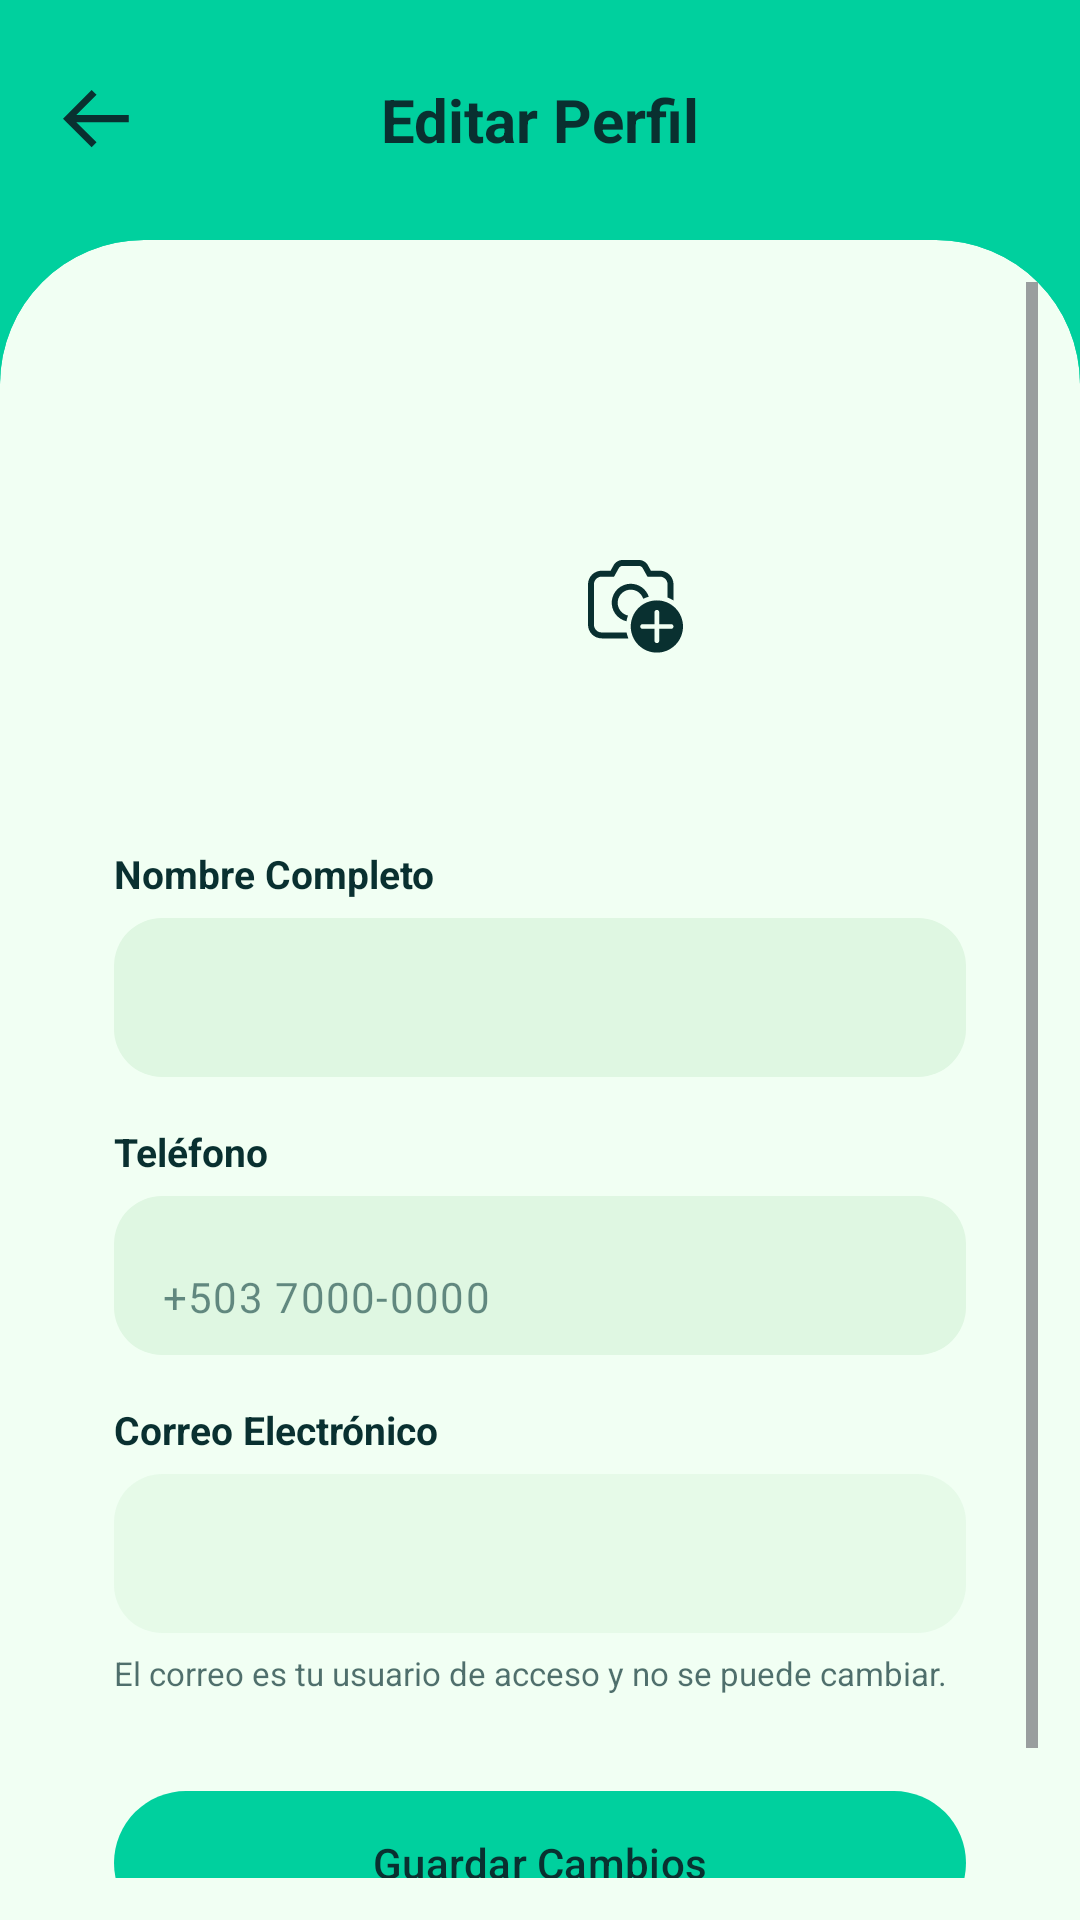

Locate icon controls on the screen. Image size 1080w x 1920h, boxes as (x1, y1, x2, y2).
arrow back: (63, 90, 129, 147)
Cambiar foto de perfil: (588, 560, 683, 653)
